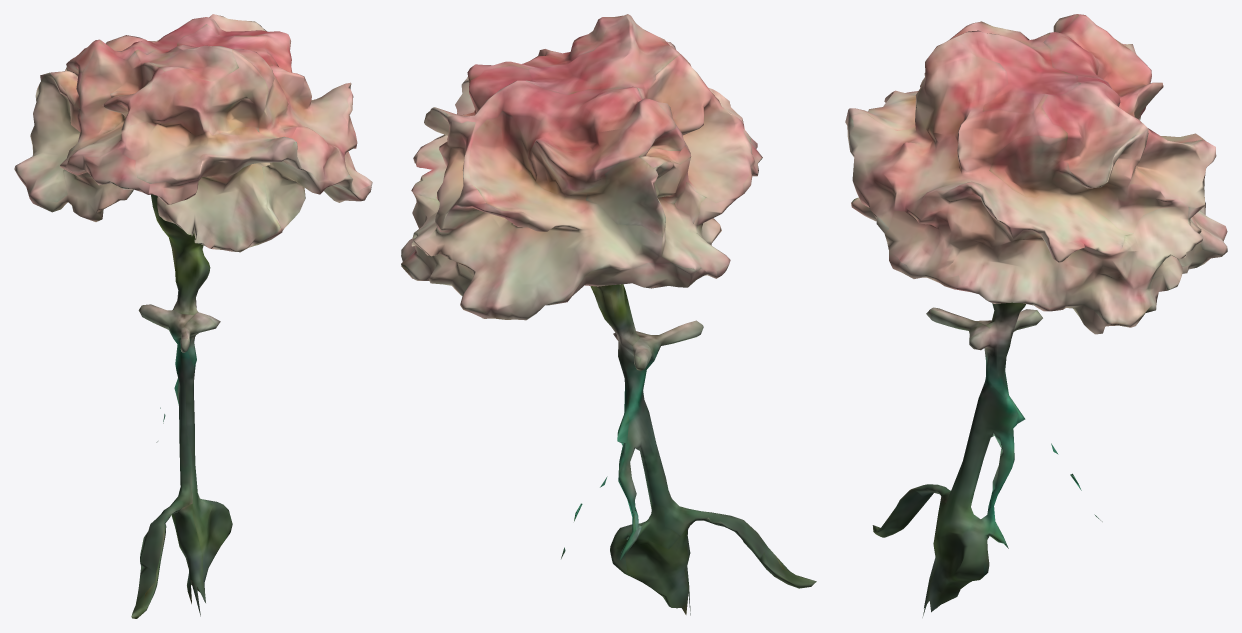
3 renders of one model, left to right at view 1: azimuth 30°, elevation 25°; view 2: azimuth 150°, elevation 25°; view 3: azimuth 270°, elevation 25°, orthographic. The views are drawn at different scales.
Parts seen in each view (by area): view 1: c5c6bcd2; view 2: c5c6bcd2; view 3: c5c6bcd2.
Boxes of the visible parts, x1=… form: c5c6bcd2: x1=14, y1=14, x2=372, y2=618; c5c6bcd2: x1=401, y1=14, x2=816, y2=615; c5c6bcd2: x1=845, y1=14, x2=1227, y2=617.
Bounding box in the file's own units: 0.0648 × 0.1163 × 0.0665.
1 material, 1 textured.
